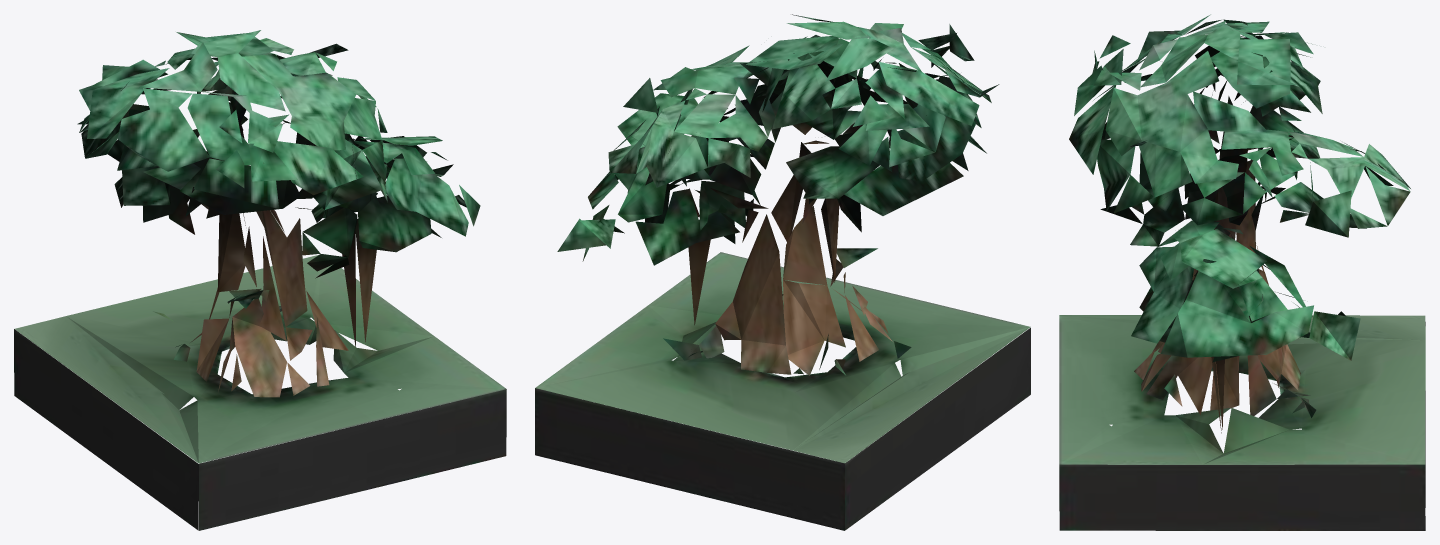
Rendered from tree_jungle_a.glb.
3 views of the same model, side by side, from view 1: azimuth 30°, elevation 25°; view 2: azimuth 150°, elevation 25°; view 3: azimuth 270°, elevation 25° (orthographic).
Parts seen in each view (by area): view 1: geometry_0; view 2: geometry_0; view 3: geometry_0.
Boxes of the visible parts, left/top/right/bottom form: geometry_0: left=14, top=30, right=506, bottom=530; geometry_0: left=535, top=14, right=1030, bottom=530; geometry_0: left=1059, top=14, right=1425, bottom=530.
Bounding box in the file's own units: 0.8734 × 0.8839 × 0.7297.
1 material, 1 textured.
